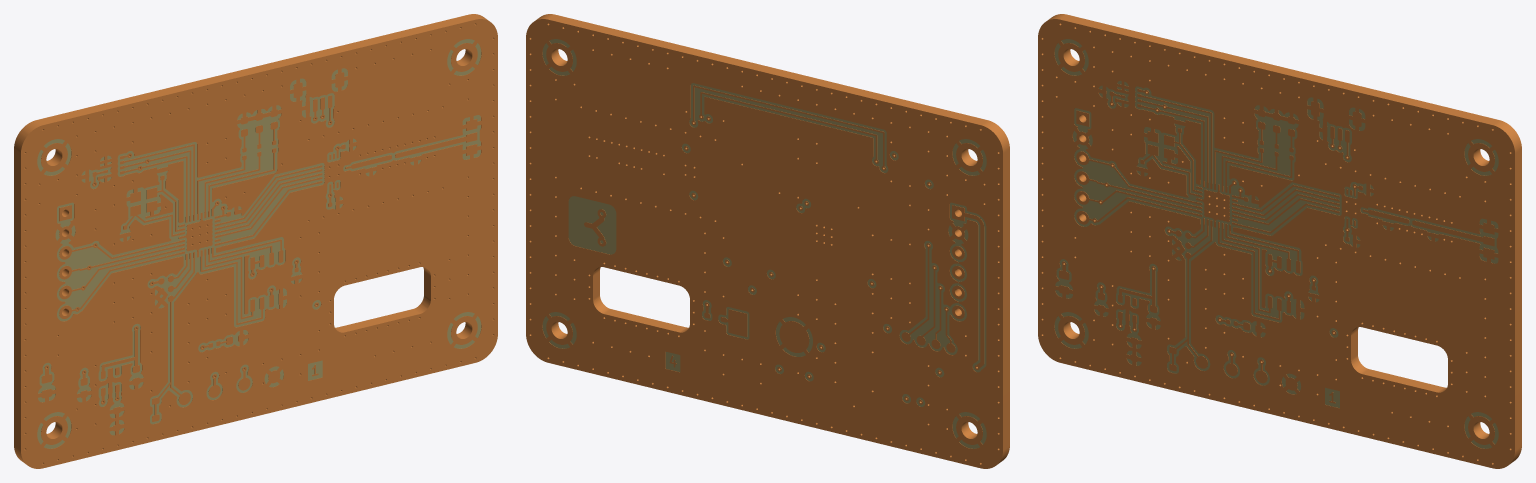
The model's file is rf_module.glb.
3 renders of one model, left to right at view 1: azimuth 30°, elevation 25°; view 2: azimuth 150°, elevation 25°; view 3: azimuth 330°, elevation 25°, orthographic.
Parts seen in each view (by area): view 1: Copper_GND, Board_dielectric 1, Copper_+3V3, Copper_+5V, Copper_NRST; view 2: Copper_GND, Board_dielectric 3, Copper_+5V, Copper_SCL2, Copper_SDA2, Copper_VBAT, Copper_SDA; view 3: Copper_GND, Board_dielectric 1, Copper_+3V3, Copper_+5V, Copper_NRST.
Boxes of the visible parts, x1,y1,x2,y2 form: Copper_GND: (14, 14, 497, 468); Board_dielectric 1: (37, 39, 481, 448); Copper_+3V3: (92, 99, 345, 390); Copper_+5V: (41, 205, 220, 404); Copper_NRST: (152, 252, 194, 421); Copper_GND: (526, 14, 1009, 468); Board_dielectric 3: (542, 39, 986, 448); Copper_+5V: (807, 205, 984, 404); Copper_SCL2: (691, 85, 886, 170); Copper_SDA2: (699, 92, 878, 163); Copper_VBAT: (720, 309, 747, 336); Copper_SDA: (901, 243, 964, 341); Copper_GND: (1038, 14, 1521, 468); Board_dielectric 1: (1054, 39, 1498, 448); Copper_+3V3: (1109, 89, 1362, 383); Copper_+5V: (1059, 110, 1237, 375); Copper_NRST: (1169, 220, 1212, 371).
Bounding box in the file's own units: 0.064 × 0.044 × 0.0016.
